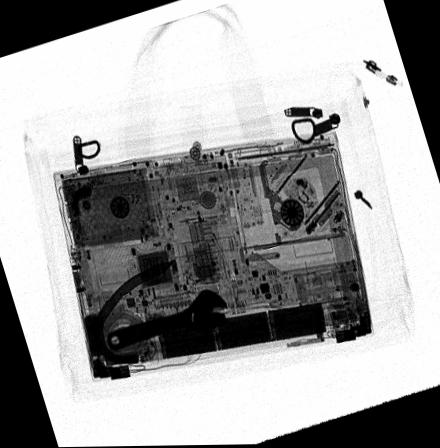Wrench: (107, 288, 230, 351)
